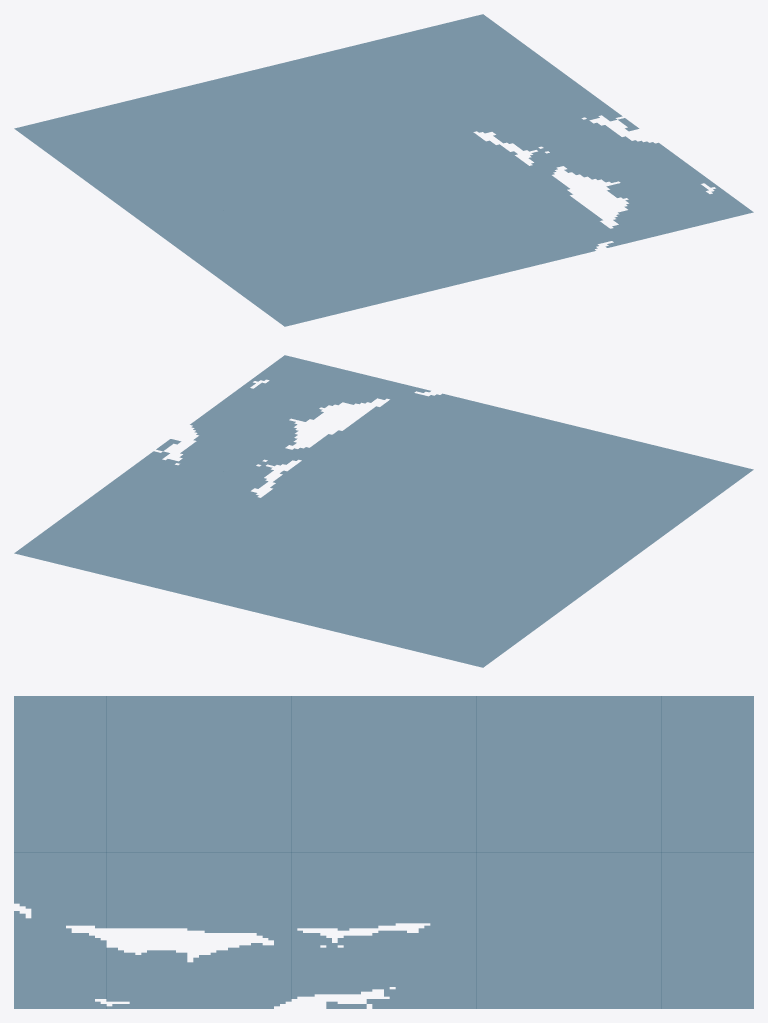
File: chunk_3_3.glb
3 views of the same model, one above another, from view 1: azimuth 30°, elevation 25°; view 2: azimuth 150°, elevation 25°; view 3: azimuth 270°, elevation 25° (orthographic). The views are drawn at different scales.
Parts seen in each view (by area): view 1: Water_3_3; view 2: Water_3_3; view 3: Water_3_3.
Part boxes in pixels (bbox=[...]): Water_3_3: bbox=[14, 14, 753, 326]; Water_3_3: bbox=[14, 355, 753, 667]; Water_3_3: bbox=[14, 696, 753, 1008].
Bounding box in the file's own units: 2048 × 1.04e-05 × 2048.
